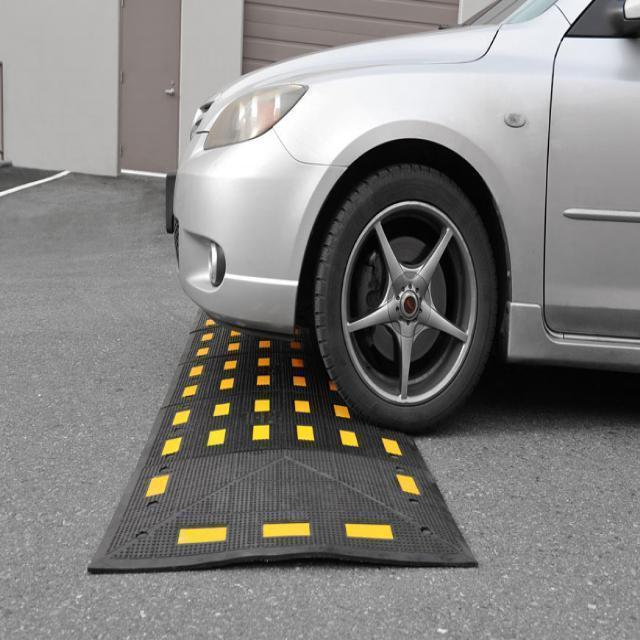speedbreaker: (119, 298, 459, 566)
